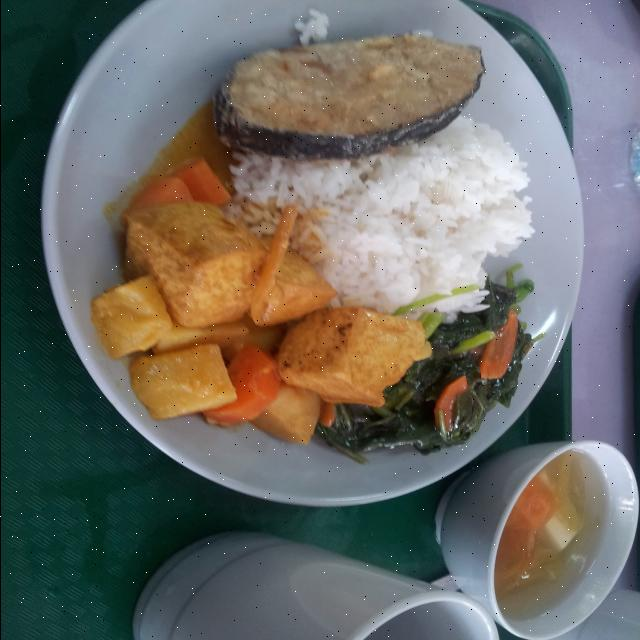Fish: (214, 34, 484, 160)
Green veg: (316, 264, 544, 459), (393, 286, 479, 315)
Rice: (226, 115, 533, 312)
Tofu: (92, 171, 430, 444)
